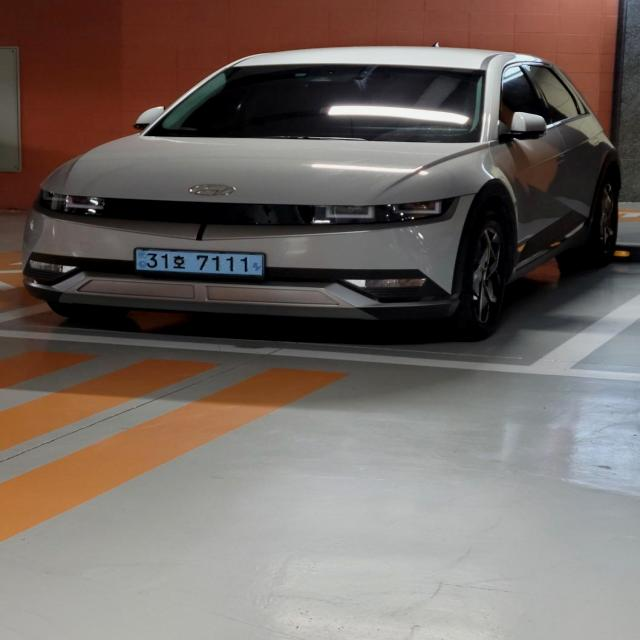EV_plate: (132, 244, 271, 286)
car: (22, 44, 623, 343)
